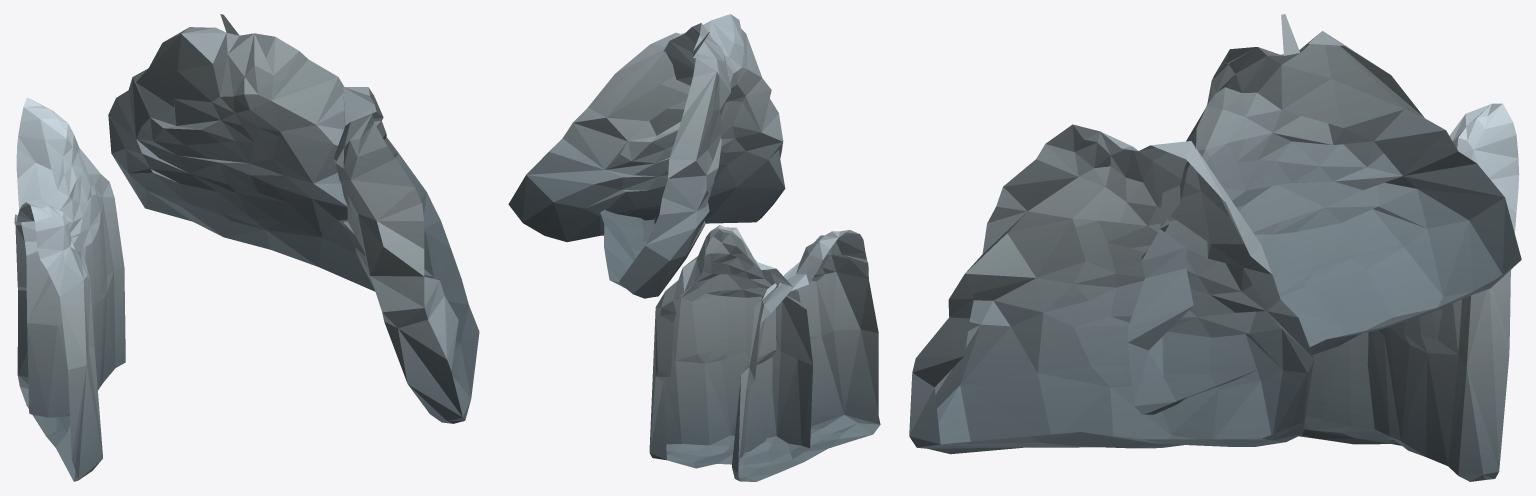
Rendered from mountainShape1.glb.
3 renders of one model, left to right at view 1: azimuth 30°, elevation 25°; view 2: azimuth 150°, elevation 25°; view 3: azimuth 270°, elevation 25°, orthographic. The views are drawn at different scales.
Parts seen in each view (by area): view 1: mountainShape2.004, mountainShape2.003, mountainShape2.002; view 2: mountainShape2.003, mountainShape2.002, mountainShape2.004; view 3: mountainShape2.002, mountainShape2.004, mountainShape2.003.
Part boxes in pixels (left/top/right/bottom): mountainShape2.004: left=108, top=14, right=433, bottom=291; mountainShape2.003: left=14, top=97, right=125, bottom=481; mountainShape2.002: left=334, top=87, right=479, bottom=423; mountainShape2.003: left=649, top=225, right=880, bottom=481; mountainShape2.002: left=508, top=14, right=785, bottom=242; mountainShape2.004: left=600, top=23, right=733, bottom=298; mountainShape2.002: left=909, top=124, right=1313, bottom=454; mountainShape2.004: left=1128, top=14, right=1521, bottom=414; mountainShape2.003: left=1299, top=103, right=1519, bottom=481.
Bounding box in the file's own units: 429 × 435 × 484.
1 material, 1 textured.
